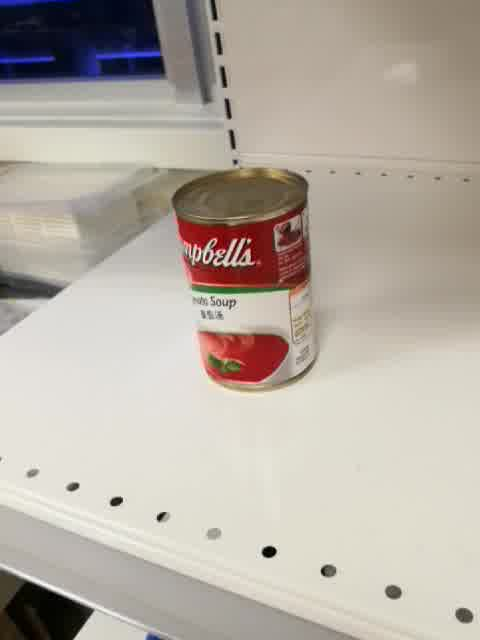tomatosoup: (170, 166, 321, 393)
